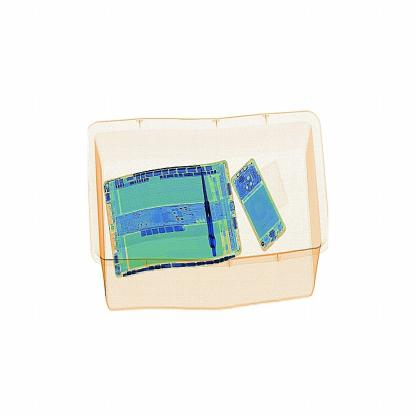gun: (189, 162, 226, 260)
